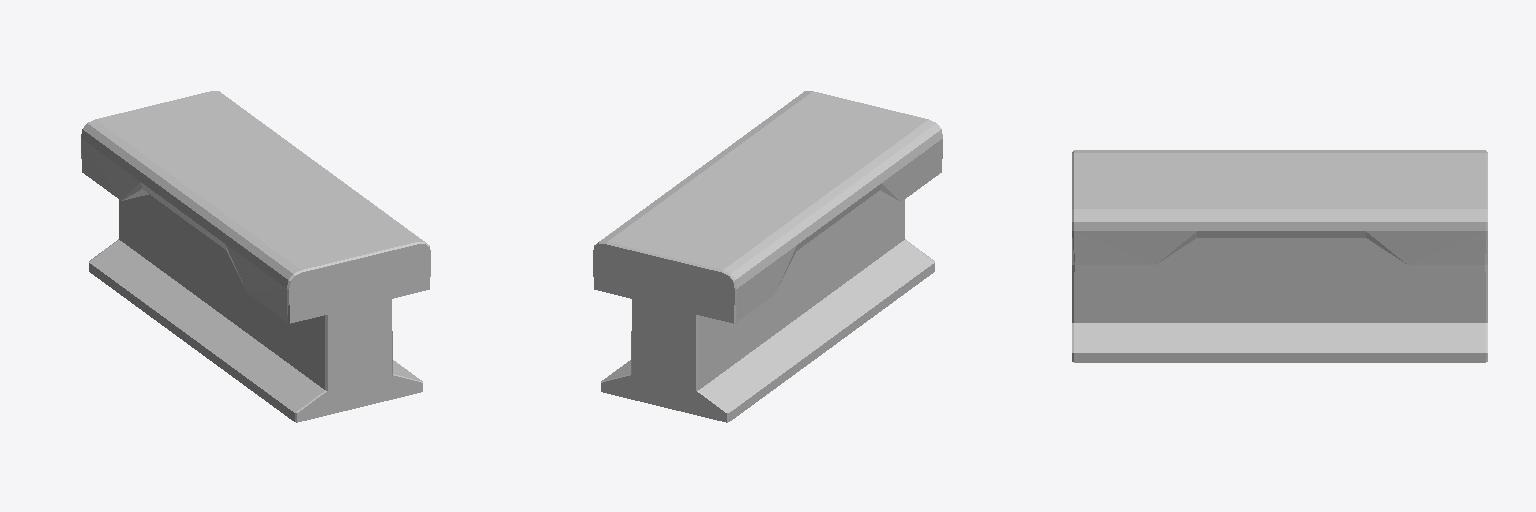
File: officeWall_single.obj
The picture shows the model from 3 angles: view 1: azimuth 30°, elevation 25°; view 2: azimuth 150°, elevation 25°; view 3: azimuth 270°, elevation 25°; orthographic projection.
Visible parts, largest first — view 1: office_desk001; view 2: office_desk001; view 3: office_desk001.
Part boxes in pixels (x1,y1,x2,y2): office_desk001: (81, 91, 430, 422); office_desk001: (593, 91, 942, 422); office_desk001: (1072, 150, 1487, 362).
Size of the model in its own units: 1 by 0.9958 by 2.49.